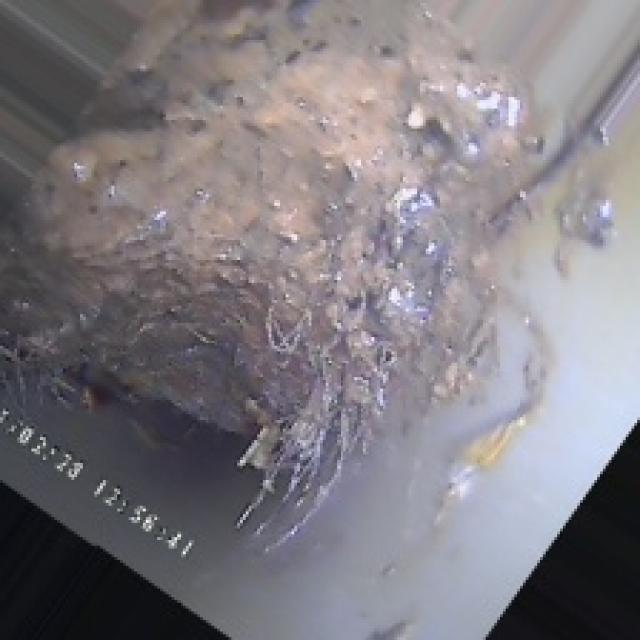sluge accumulation: (40, 40, 526, 451)
